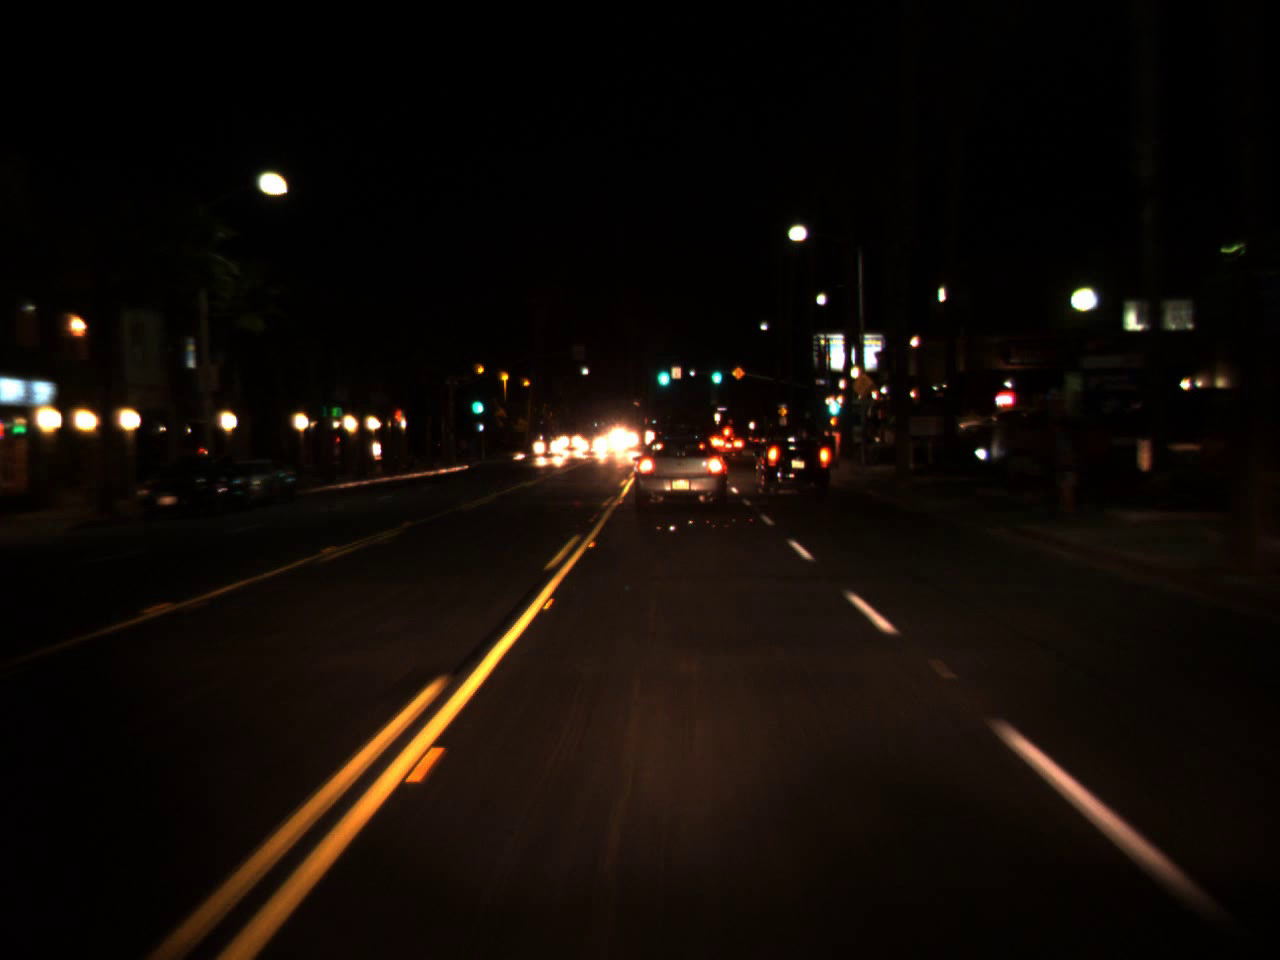go: (652, 355, 671, 391), (822, 385, 841, 421), (468, 385, 484, 418), (706, 358, 722, 385)
